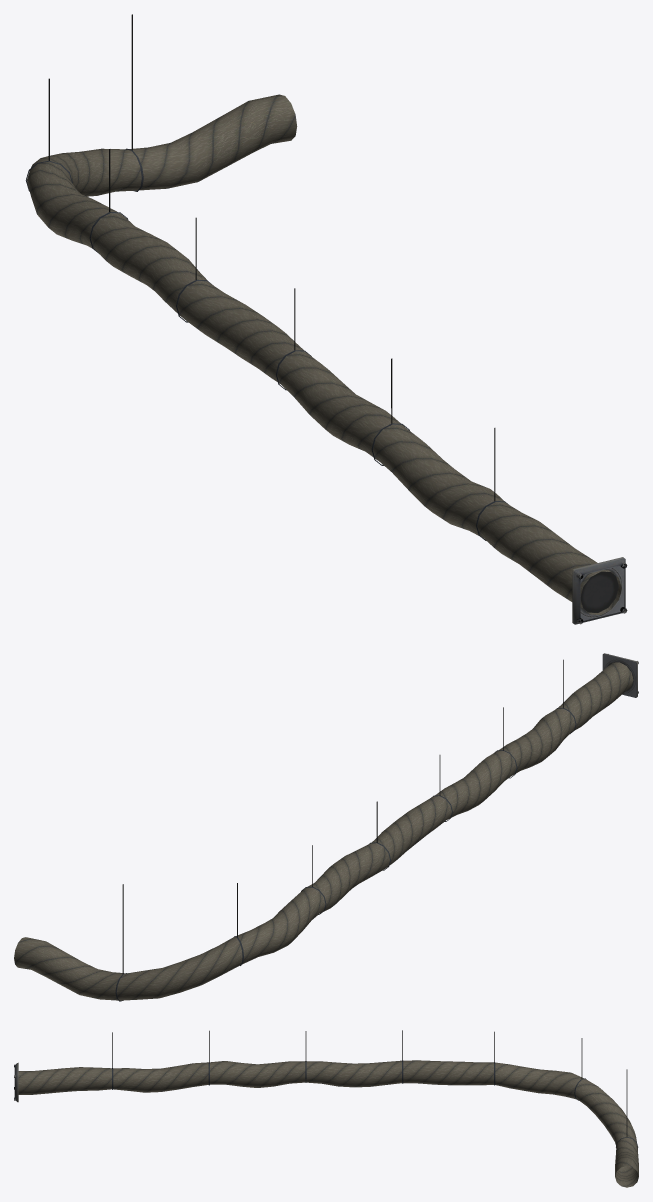
The model's file is computer_scanroom_pipe_.dae.
3 renders of one model, top to bottom at view 1: azimuth 30°, elevation 25°; view 2: azimuth 150°, elevation 25°; view 3: azimuth 270°, elevation 25°, orthographic. The views are drawn at different scales.
Visible parts, largest first — view 1: scanroom_special; view 2: scanroom_special; view 3: scanroom_special.
Boxes of the visible parts, left/top/right/bottom form: scanroom_special: left=25, top=14, right=627, bottom=624; scanroom_special: left=14, top=653, right=638, bottom=1001; scanroom_special: left=14, top=1030, right=638, bottom=1187.
Bounding box in the file's own units: 3.04 × 1.57 × 9.86.
